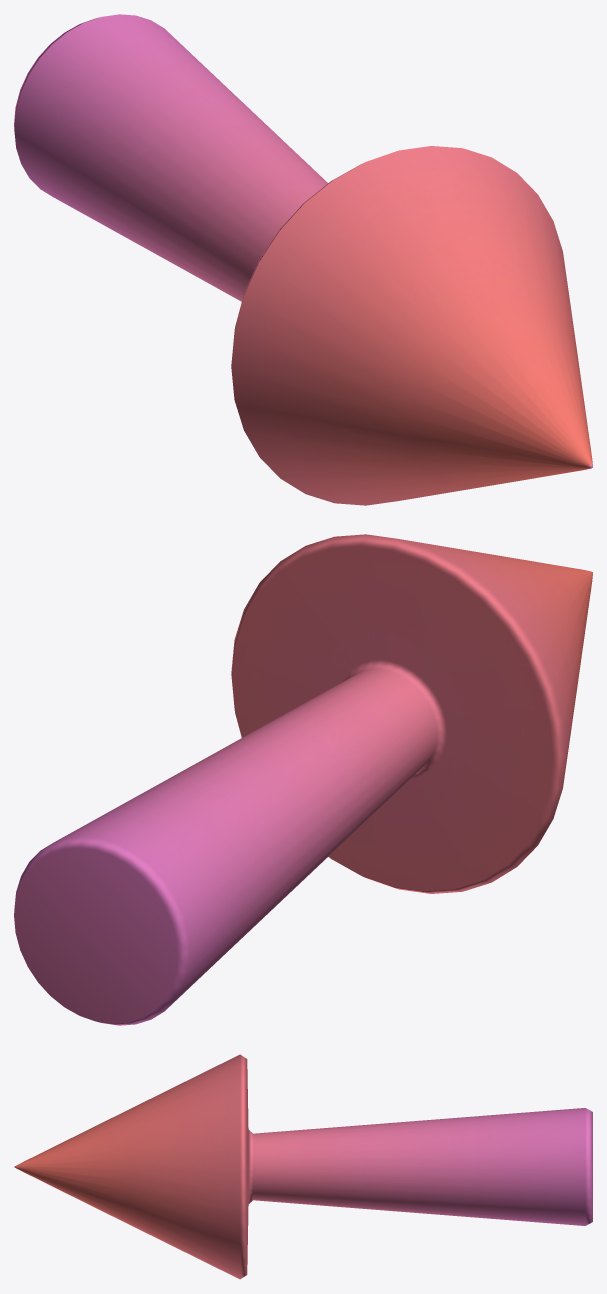
The model's file is arrow.fbx.
3 views of the same model, one above another, from view 1: azimuth 30°, elevation 25°; view 2: azimuth 150°, elevation 25°; view 3: azimuth 270°, elevation 25° (orthographic). The views are drawn at different scales.
Visible parts, largest first — view 1: Arrow; view 2: Arrow; view 3: Arrow.
Part boxes in pixels (x1=…): Arrow: x1=14, y1=14, x2=592, y2=505; Arrow: x1=14, y1=534, x2=592, y2=1025; Arrow: x1=14, y1=1054, x2=592, y2=1279.
Size of the model in its own units: 19.12 by 19.12 by 49.14.
Materials: 1 (1 with a texture image).
